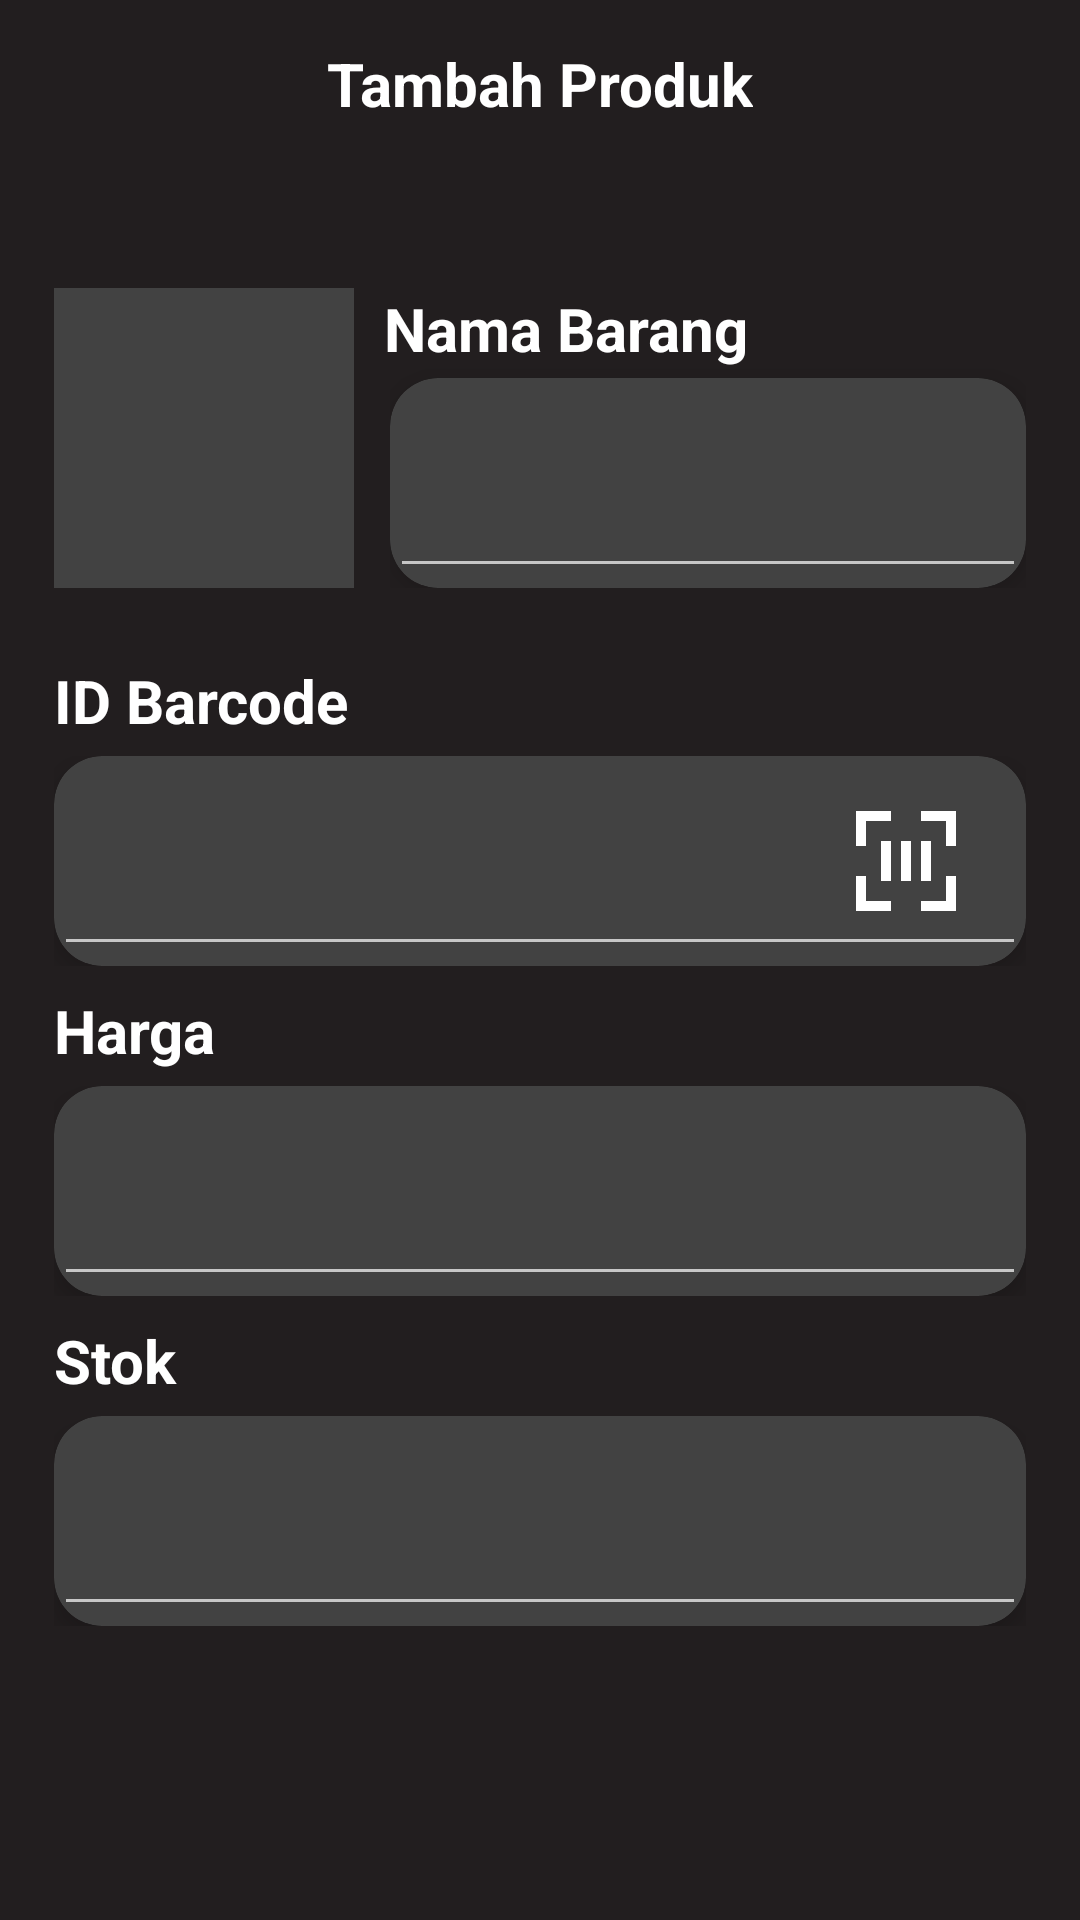

Locate icon controls on the screen. Image size 1080×1920, boxes as (x1, y1, x2, y2).
barcodeid: (856, 811, 956, 911)
